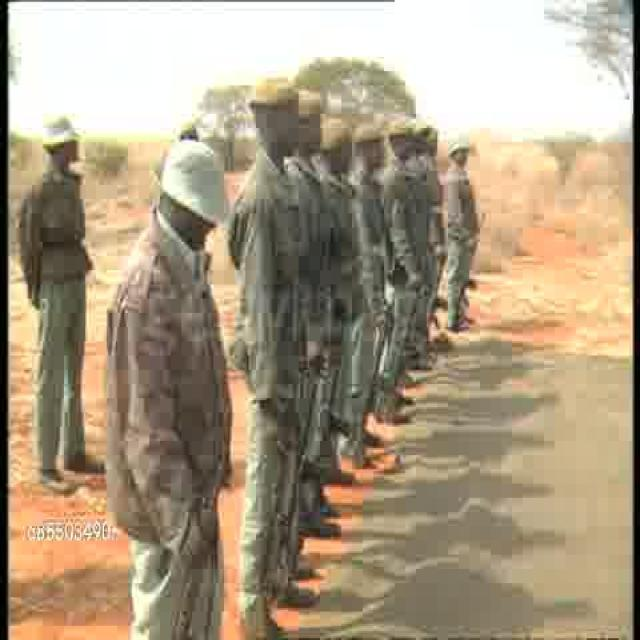poacher: (104, 130, 238, 600), (230, 79, 302, 582), (17, 87, 104, 493), (298, 80, 332, 379), (324, 118, 354, 398), (444, 126, 482, 332), (362, 134, 394, 348)
